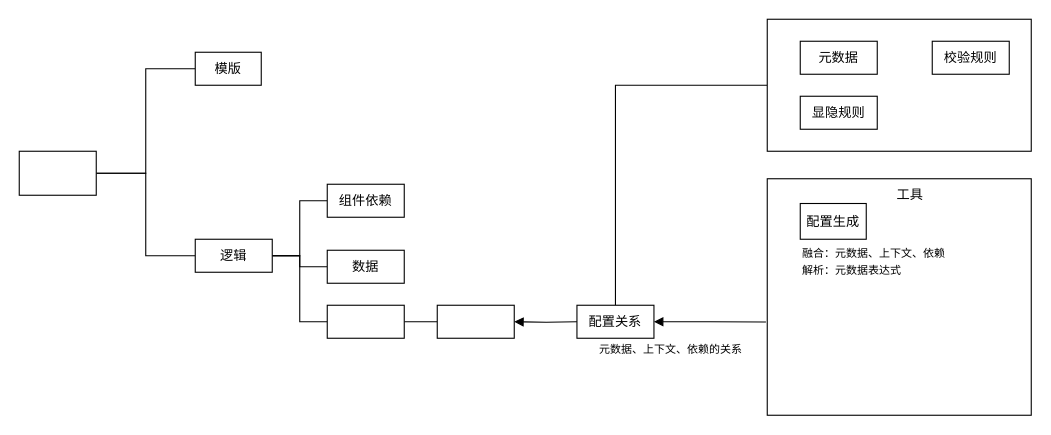
This 1051x435 diagram has some shape labels left out. The box of each missing label's shape, as (x1, y1, x2, y2) in pixels:
form配置: (436, 304, 514, 338)
渲染容器: (18, 150, 96, 195)
配置: (326, 304, 404, 338)
